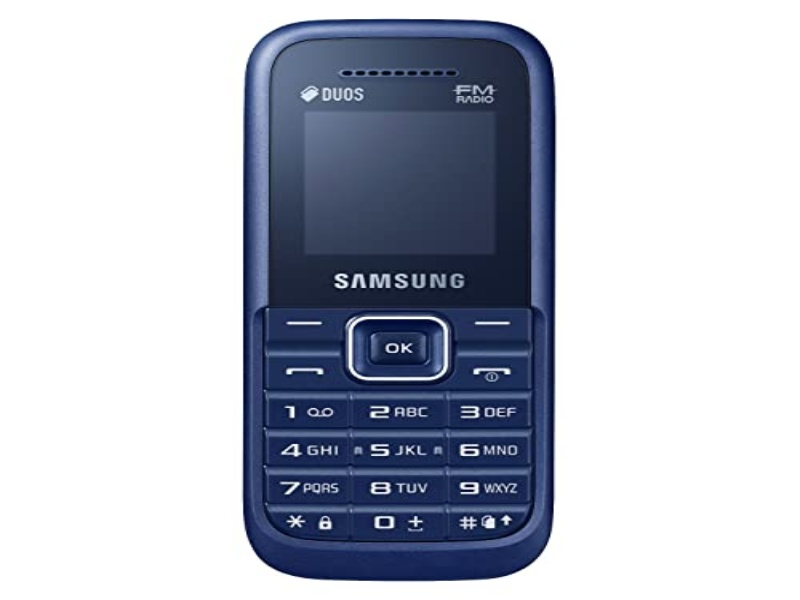mobile: (228, 12, 569, 589)
